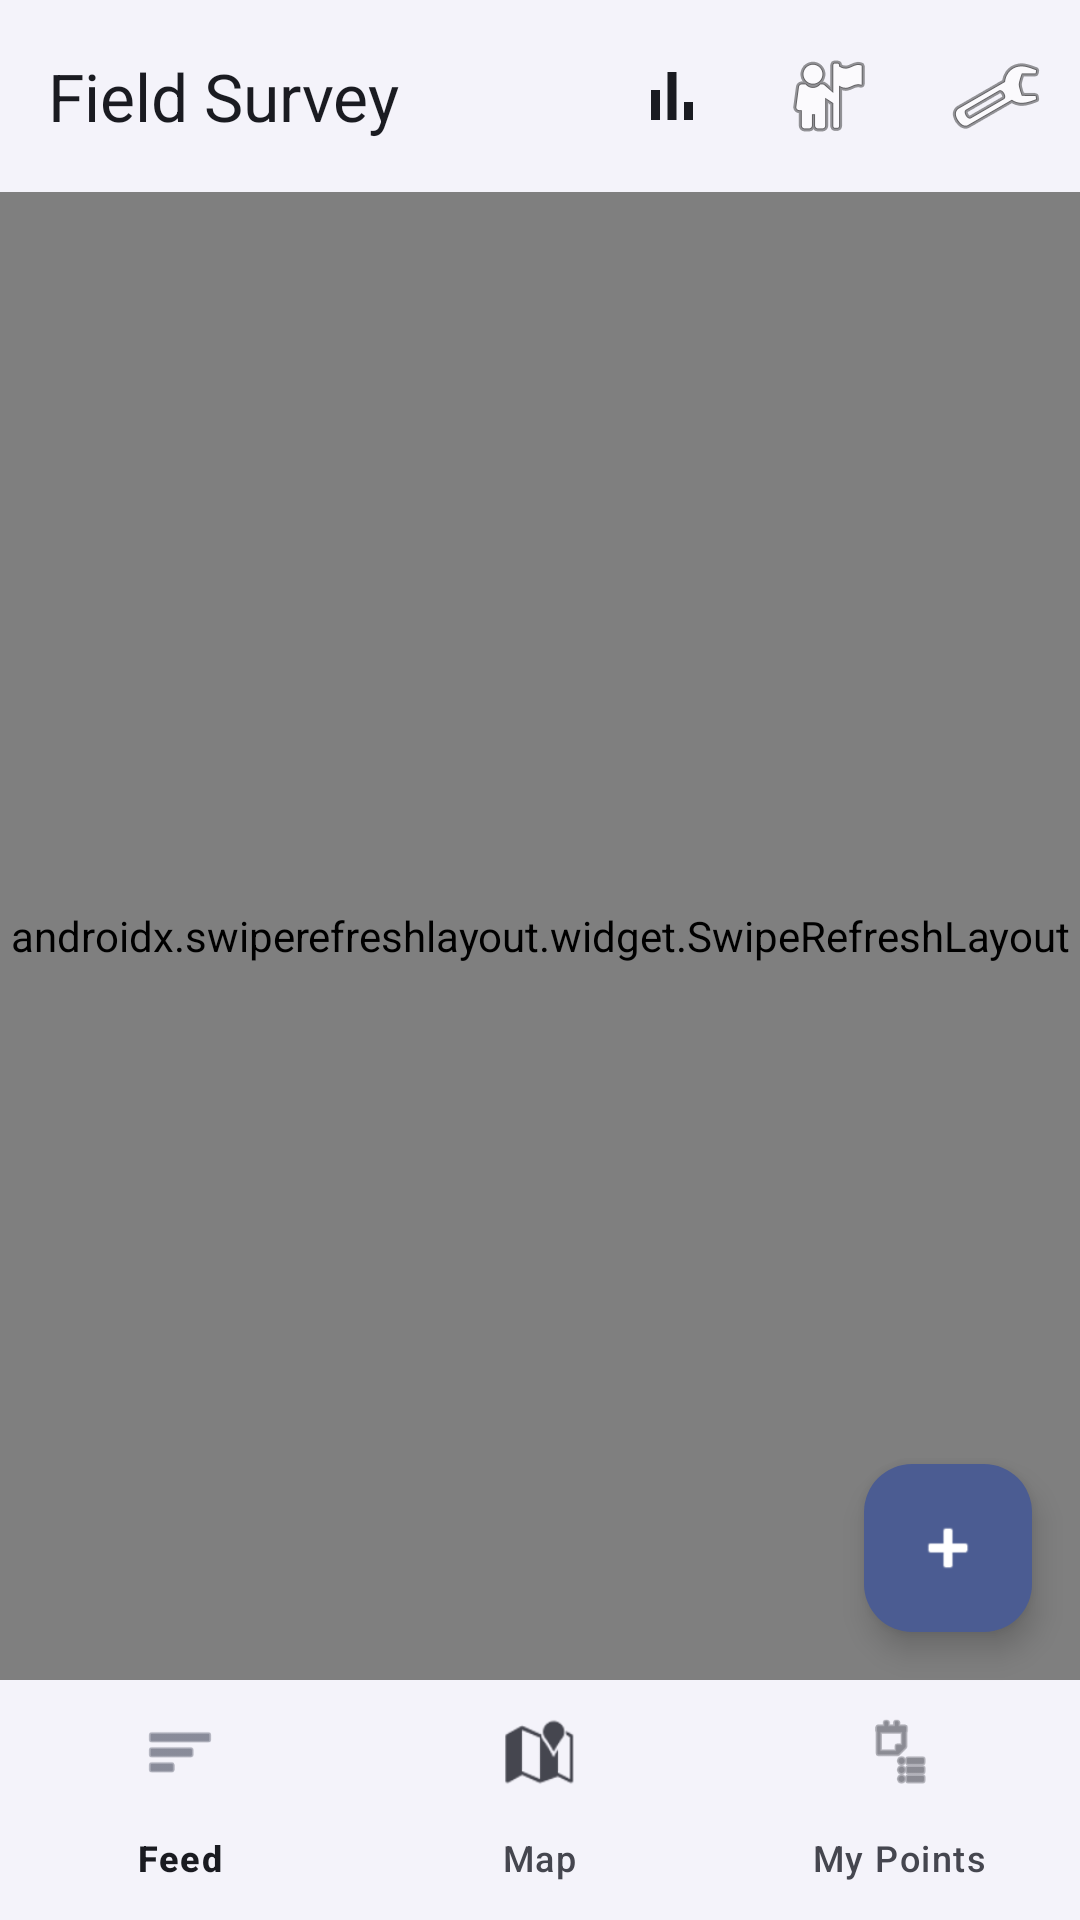

Icon click points for this 1080w x 1920h phone screenshot, format [x,y]:
Add Point: [948,1548]
